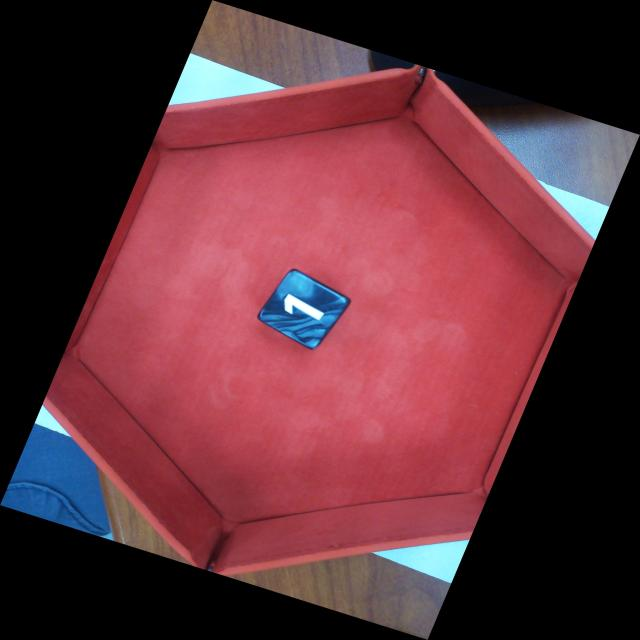dice: (257, 269, 351, 350)
